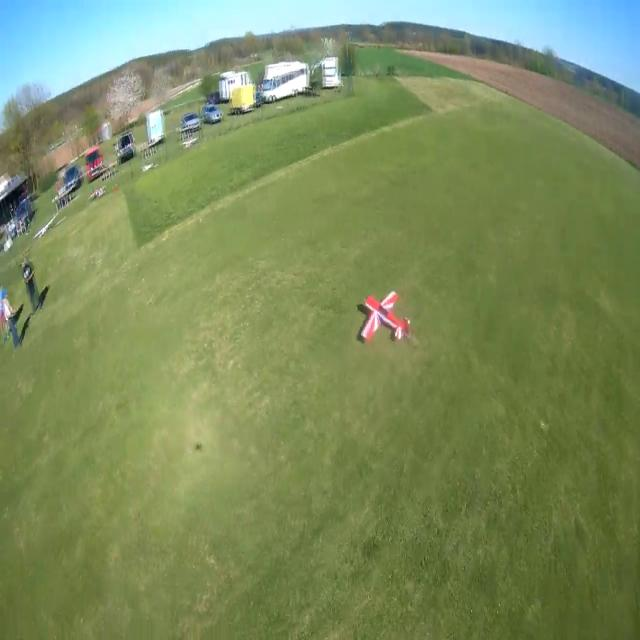iha: (357, 289, 412, 343)
